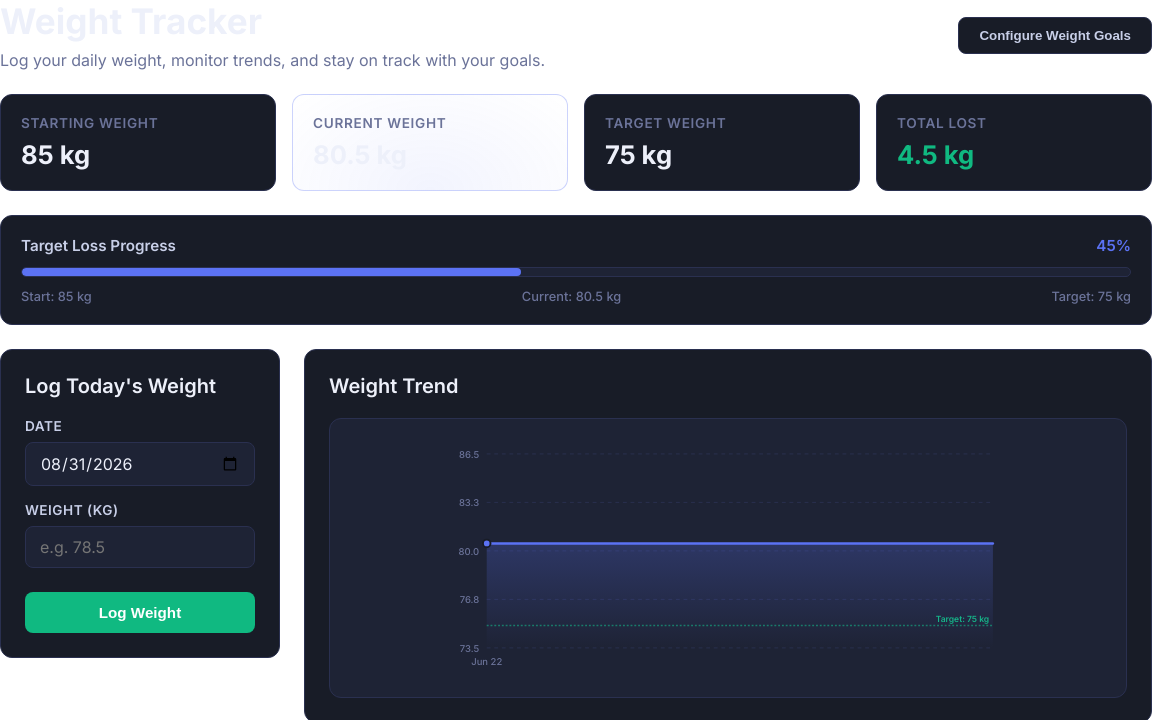
Test case: WeightPage › supports logging weight on form submission
Expected: the text "85 kg" is shown, [21, 139, 90, 170]
Type "79.5" into the number field labelled "Weight (kg)" at (140, 547), box [25, 526, 255, 568]
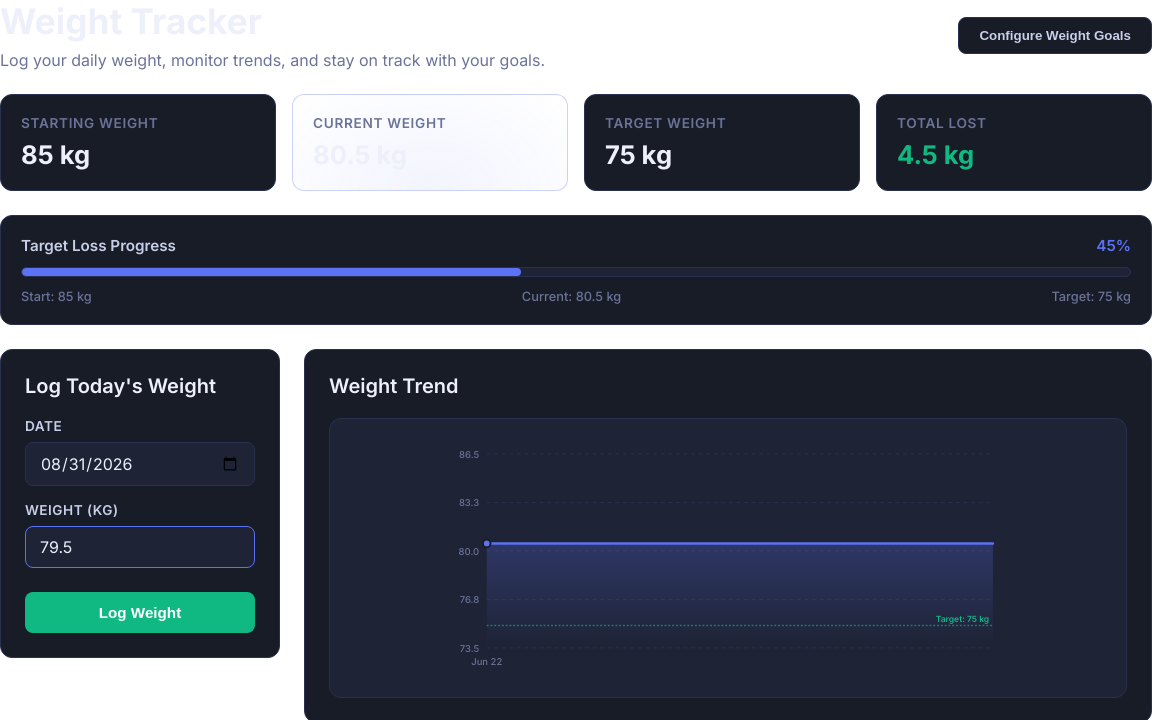
Click the button "Log Weight" at (140, 612), box [25, 592, 255, 633]
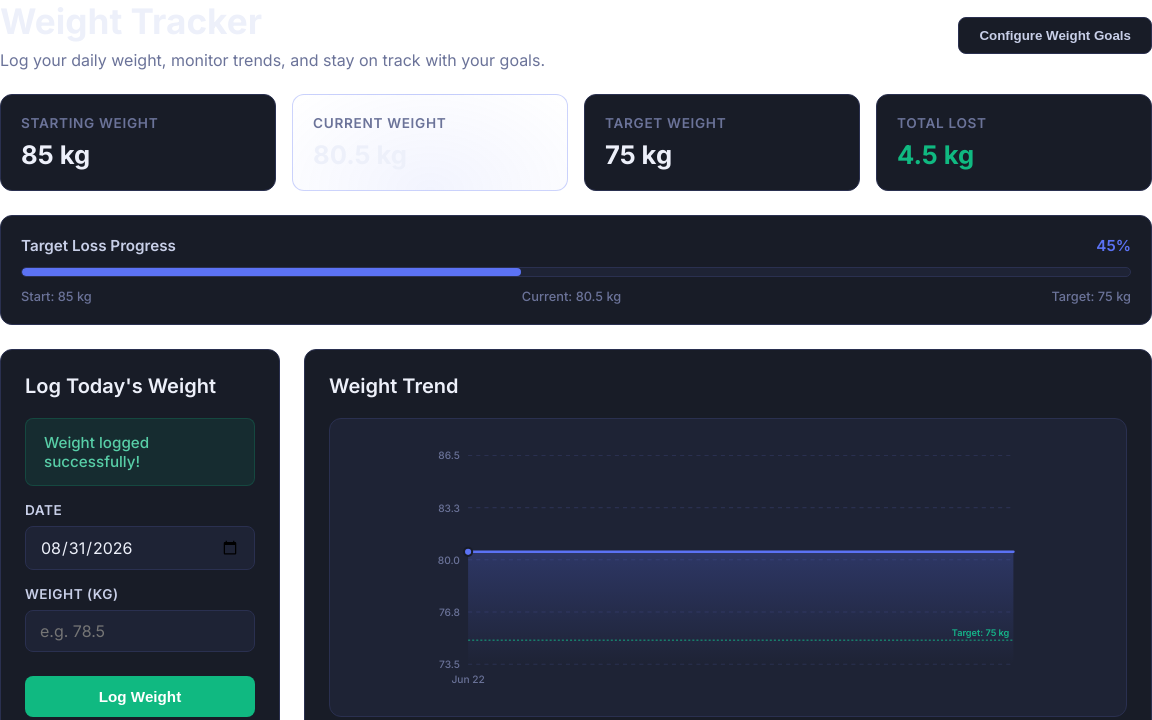
Expected: the text "Weight logged successfully!" is shown, [44, 433, 149, 471]
